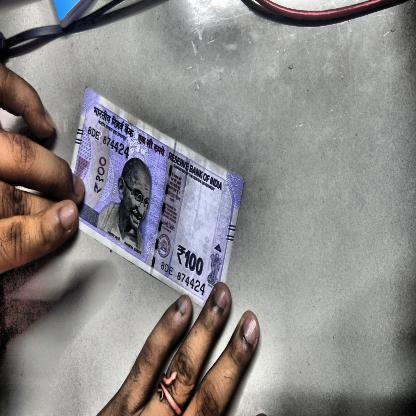Rs100: (173, 238, 206, 283)
